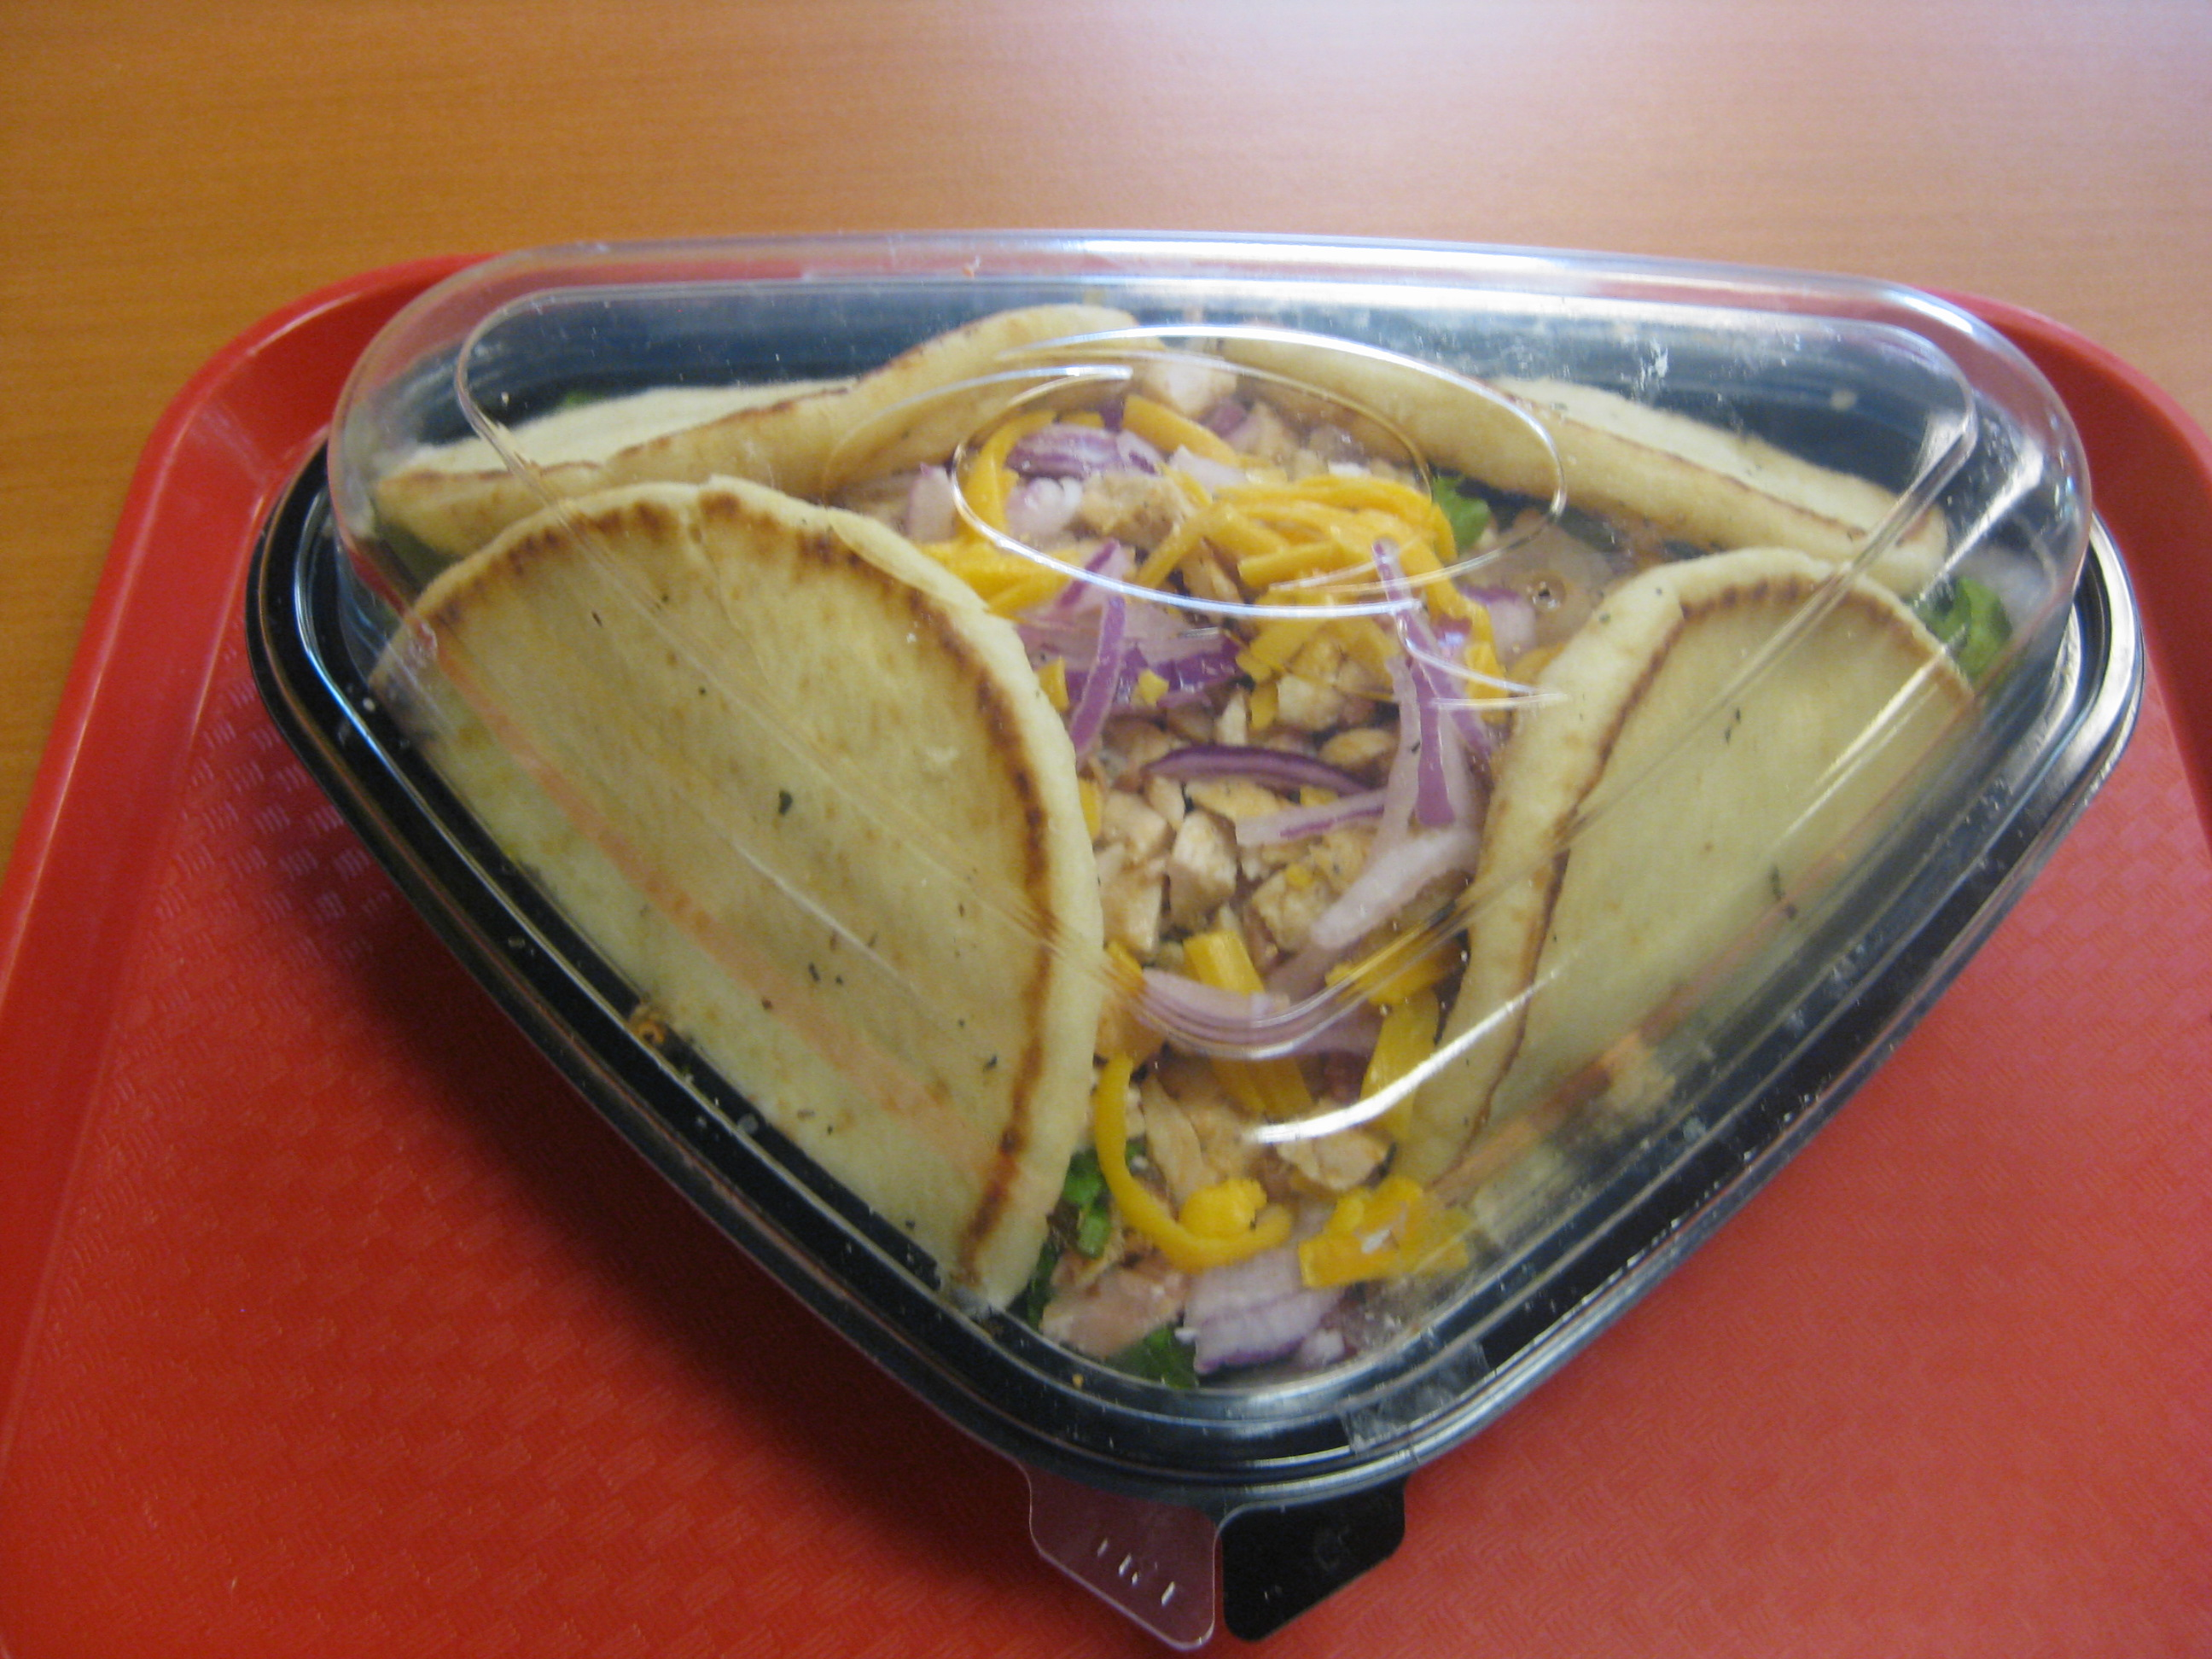burrito: (319, 232, 2127, 1333)
